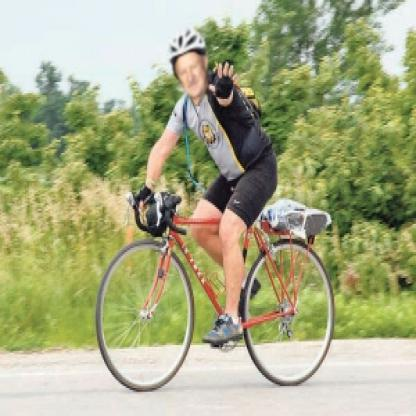Helmet: (163, 30, 213, 99)
